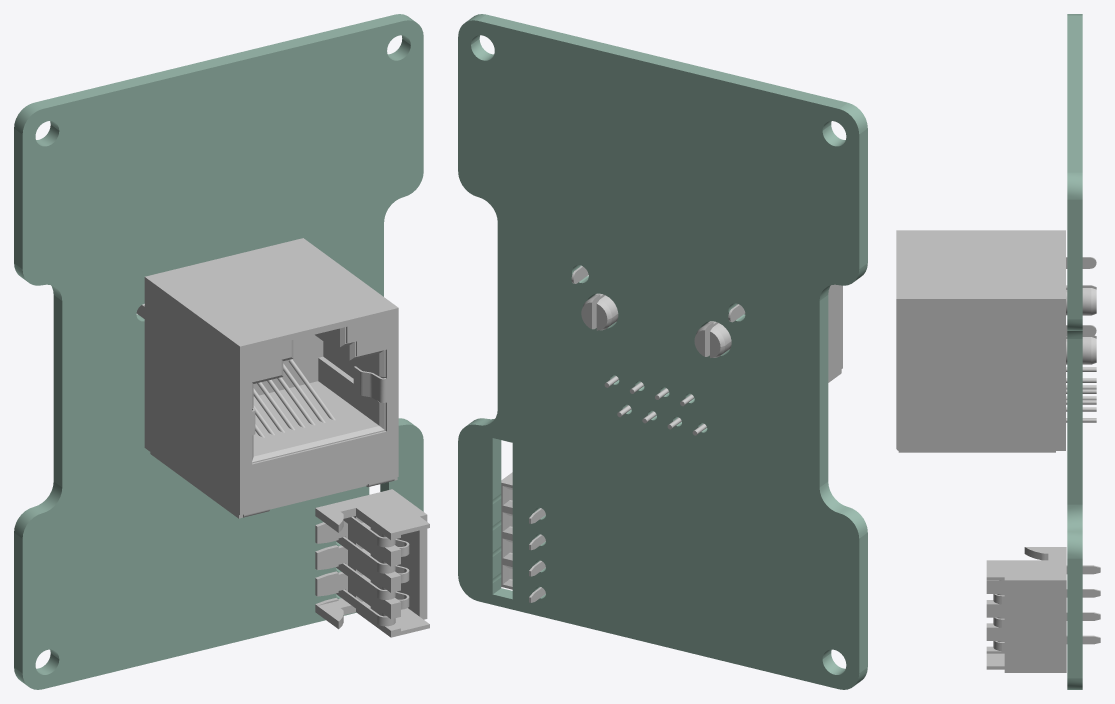
File: XRC_mLRS_jr_bay_adapter_v3.glb
The picture shows the model from 3 angles, left to right: view 1: azimuth 30°, elevation 25°; view 2: azimuth 150°, elevation 25°; view 3: azimuth 270°, elevation 25°; orthographic projection. The views are drawn at different scales.
Visible parts, largest first — view 1: empty_18, empty_16, empty_17; view 2: empty_18, empty_17, empty_16; view 3: empty_16, empty_18, empty_17, empty_4, empty_2.
Part boxes in pixels (x1=…): empty_18: x1=14, y1=14, x2=423, y2=689; empty_16: x1=144, y1=238, x2=398, y2=518; empty_17: x1=315, y1=489, x2=429, y2=637; empty_18: x1=458, y1=14, x2=867, y2=689; empty_17: x1=501, y1=472, x2=545, y2=602; empty_16: x1=594, y1=284, x2=842, y2=382; empty_16: x1=896, y1=230, x2=1067, y2=452; empty_18: x1=1067, y1=14, x2=1082, y2=689; empty_17: x1=986, y1=547, x2=1100, y2=672; empty_4: x1=1082, y1=337, x2=1096, y2=364; empty_2: x1=1082, y1=288, x2=1096, y2=315.
Bounding box in the file's own units: 0.0405 × 0.056 × 0.0201.
